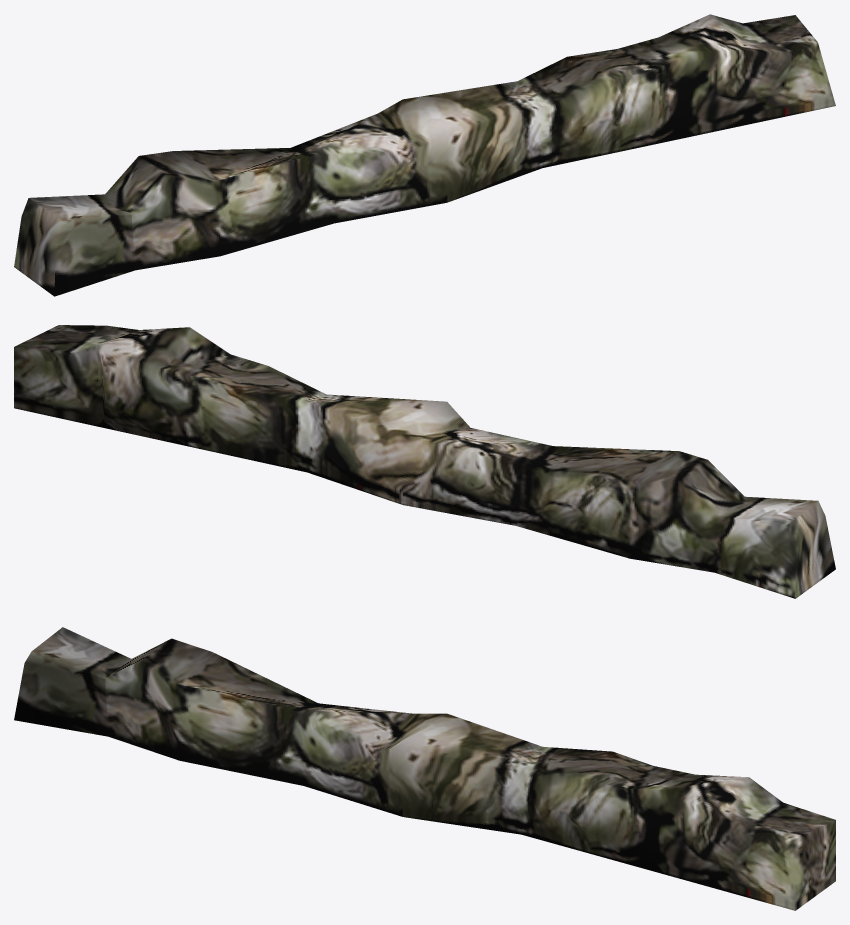
File: STR_WallStoneD.FBX
3 renders of one model, top to bottom at view 1: azimuth 30°, elevation 25°; view 2: azimuth 150°, elevation 25°; view 3: azimuth 330°, elevation 25°, orthographic.
Visible parts, largest first — view 1: STR_WallStoneD; view 2: STR_WallStoneD; view 3: STR_WallStoneD.
Part boxes in pixels (x1,y1,x2,y2): STR_WallStoneD: (14,14,835,296); STR_WallStoneD: (14,325,835,598); STR_WallStoneD: (14,627,835,910).
Bounding box in the file's own units: 881 × 92.62 × 99.81.
1 material, 1 textured.
